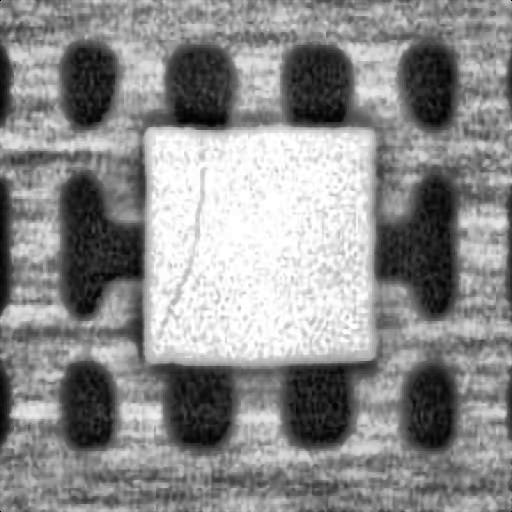DIE_CRACK: (152, 167, 208, 340)
